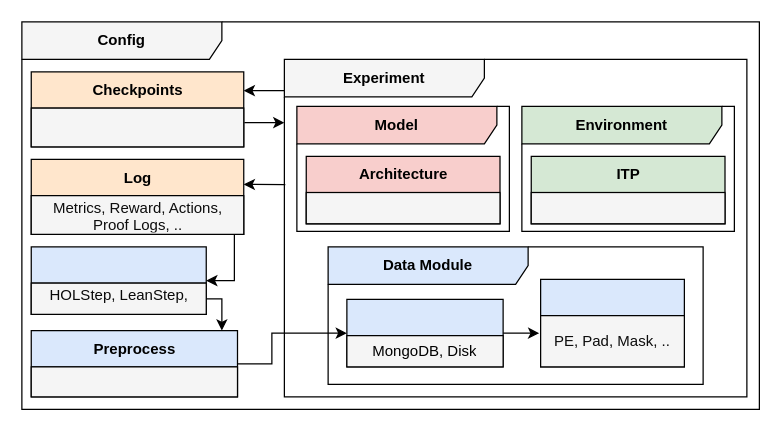
Some shapes in this 781 by 431 pixel diagram are drawn without their labels. The shapes that lost their labels are listed below. From the top down, each one's box as (x1, y1, x2, y2) in pixels, then its label:
(30, 107, 244, 147): Hyperparams, weights, optimiser, metrics
(305, 191, 500, 224): TacticZero, GNN, ..
(530, 191, 725, 224): HOL Light, Lean, HOL4, ..
(30, 246, 206, 314): Raw Data
(346, 298, 503, 367): Data Store
(539, 278, 684, 367): Transform
(30, 366, 238, 397): Tokenise, Label, Reward, ..
